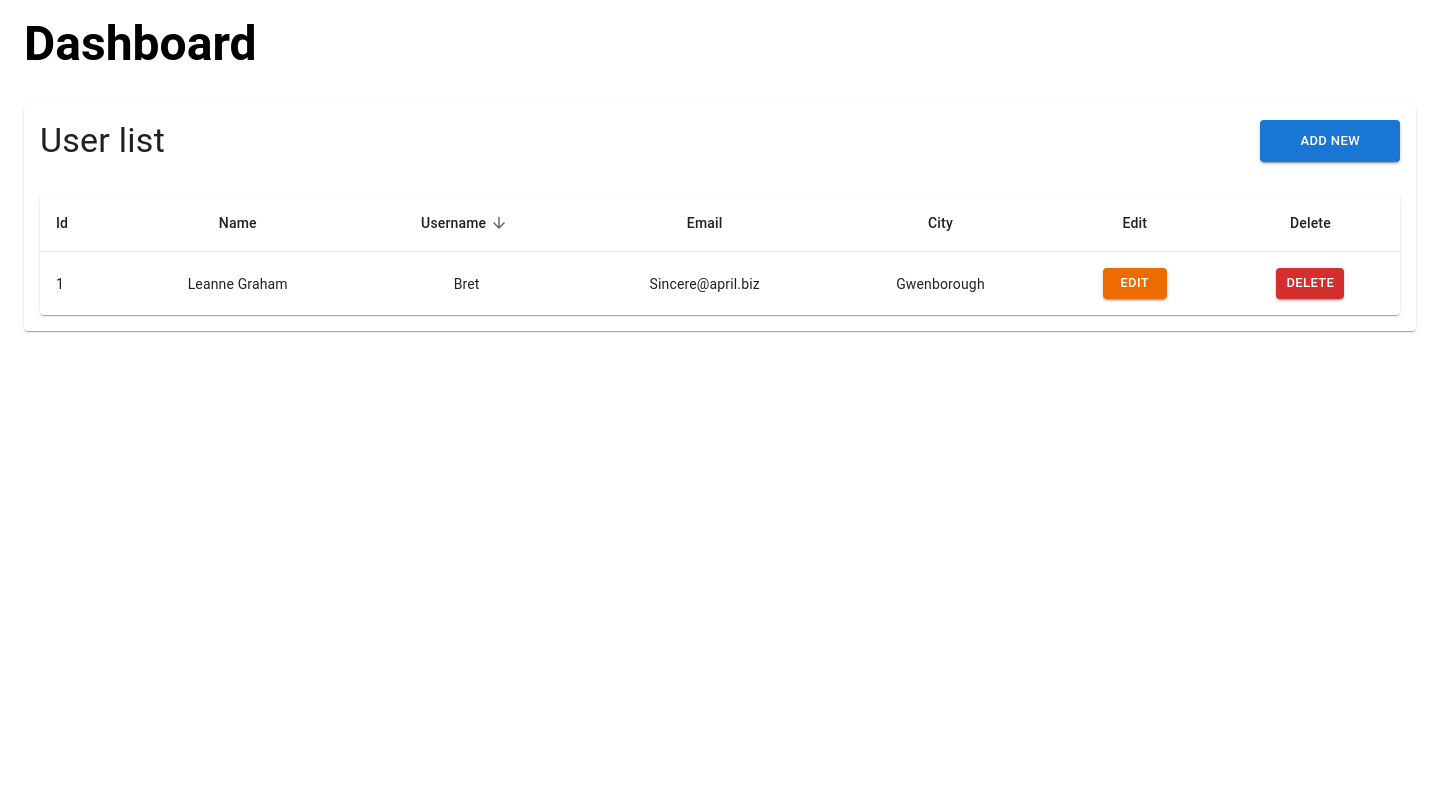
it: view :: Dashboard › when click on delete button › should open popup with user name
Click the button "delete" at (1310, 284), box [1276,268,1344,299]
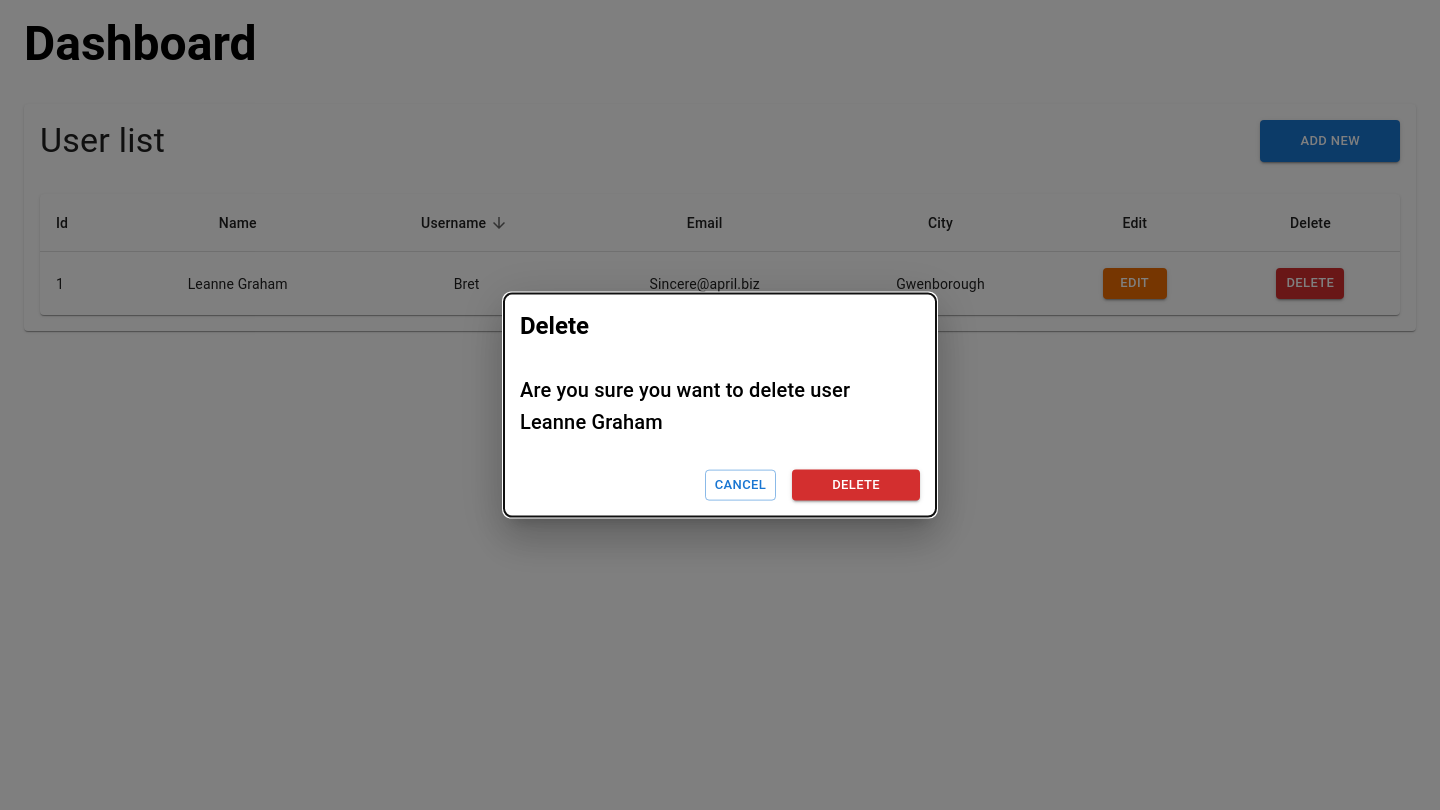
Expected: the text "Are you sure you want to delete user Leanne Graham" is shown, [520,378,850,434]
